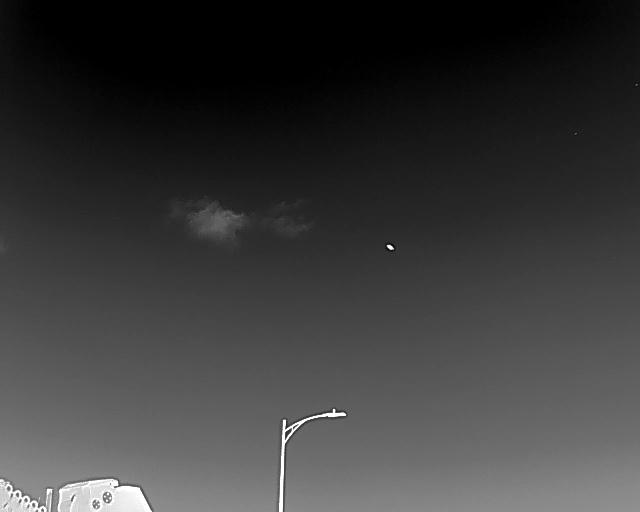fpv-drone: (386, 243, 395, 251)
